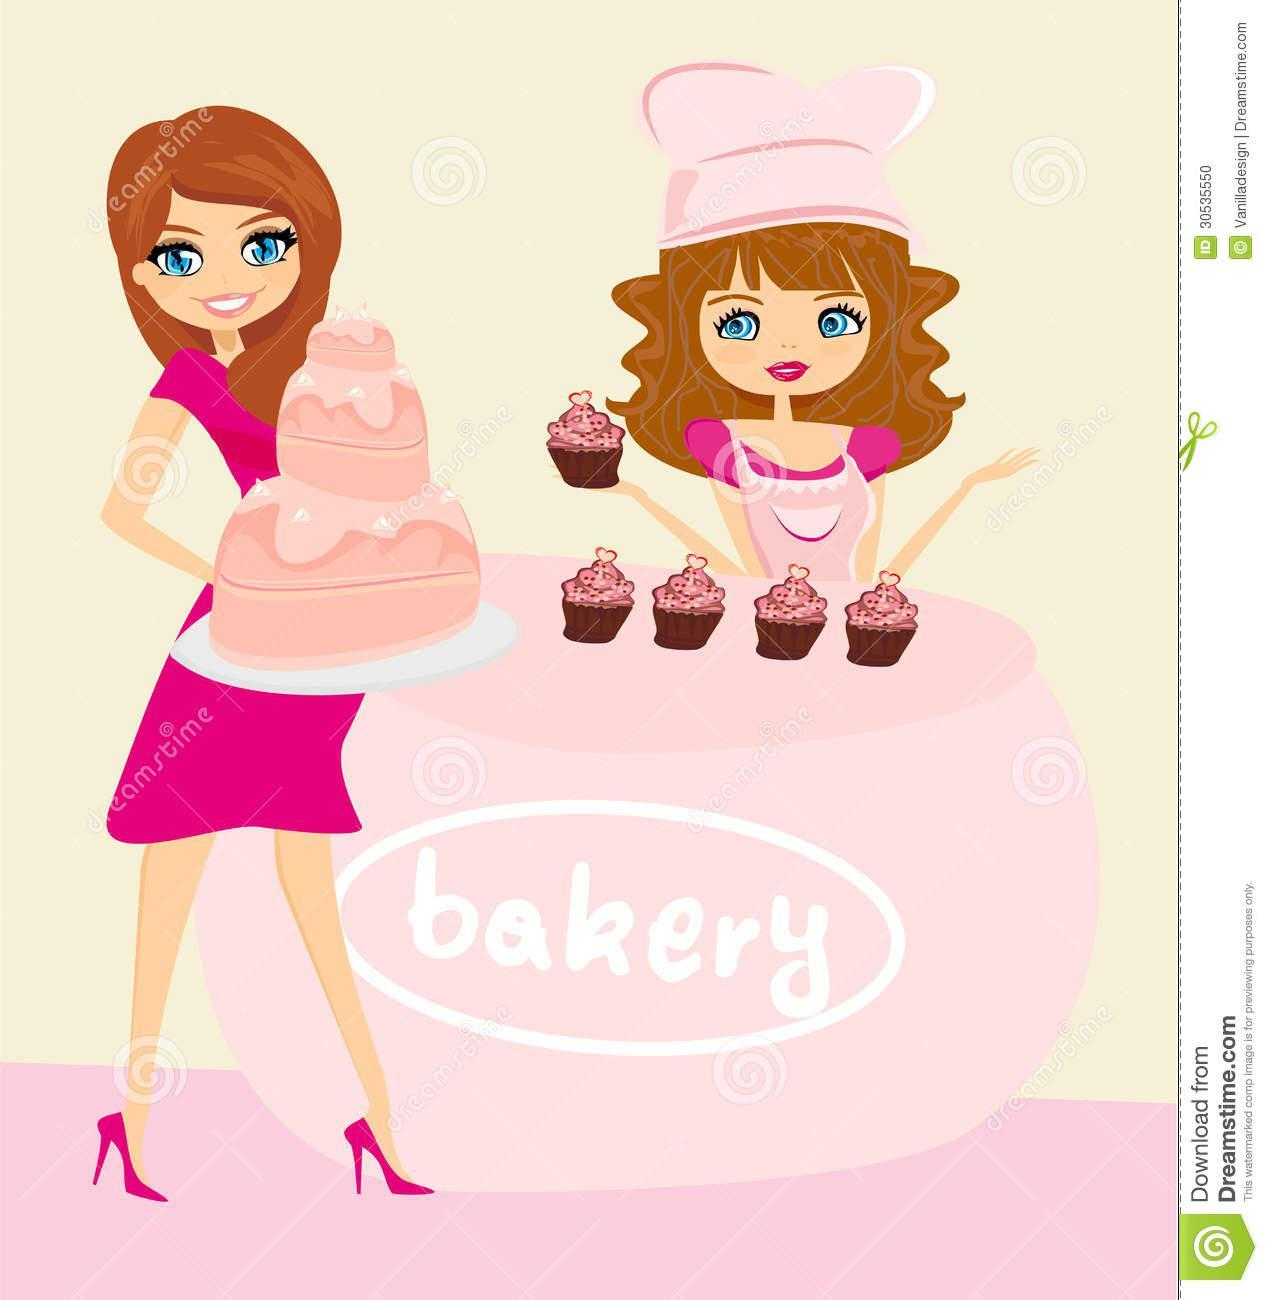person: (83, 100, 440, 1211), (573, 61, 1057, 609)
